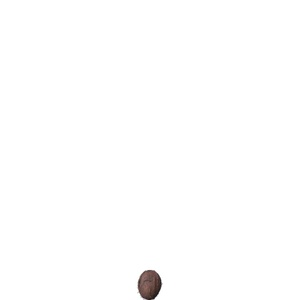coco: (138, 271, 161, 300)
